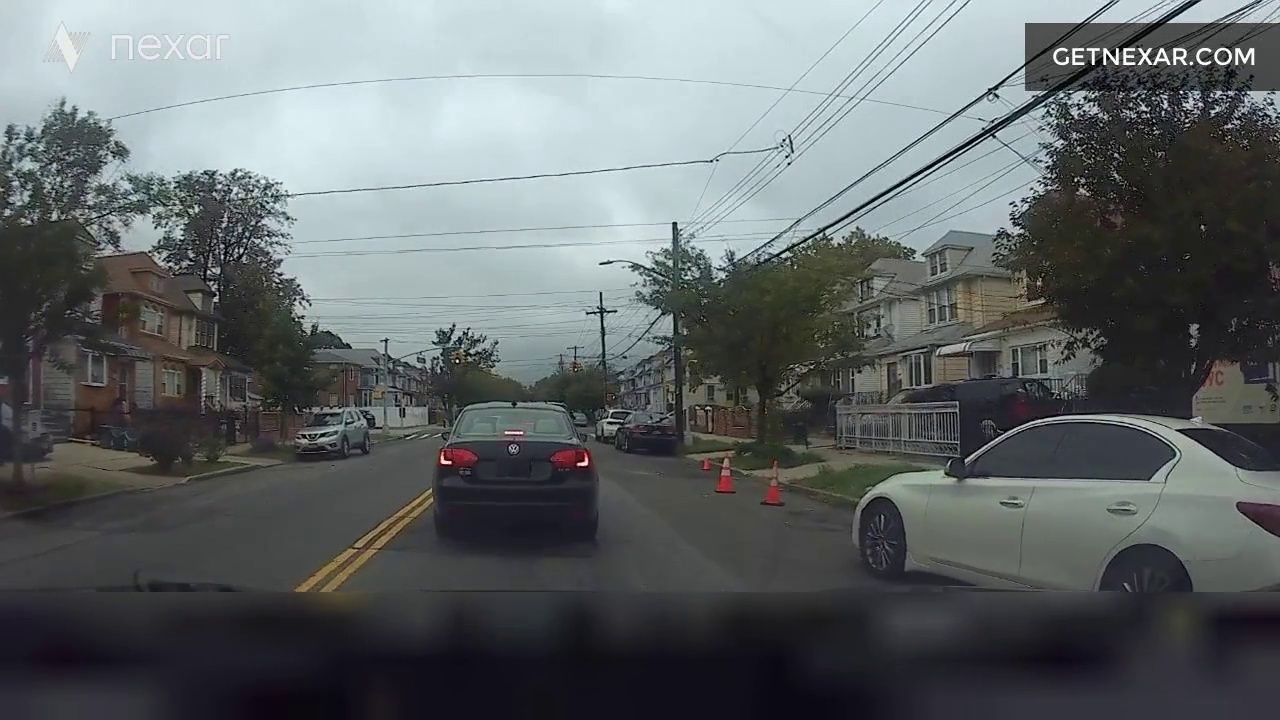car: (847, 401, 1280, 634), (439, 393, 598, 561), (279, 391, 378, 472), (609, 391, 695, 472)
traffic light: (425, 316, 482, 386)
